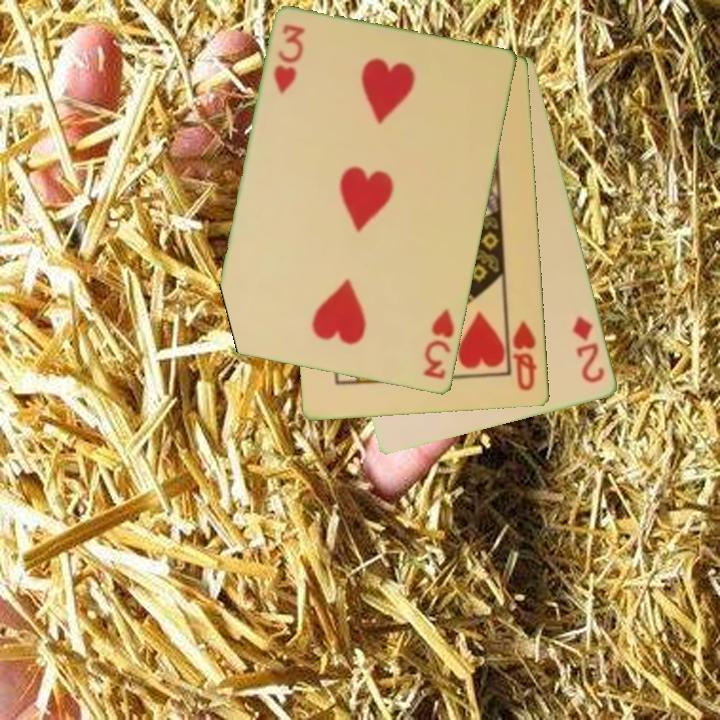2d: (569, 313, 608, 387)
3h: (420, 305, 458, 383), (270, 21, 308, 98)
Qh: (509, 318, 541, 394)
